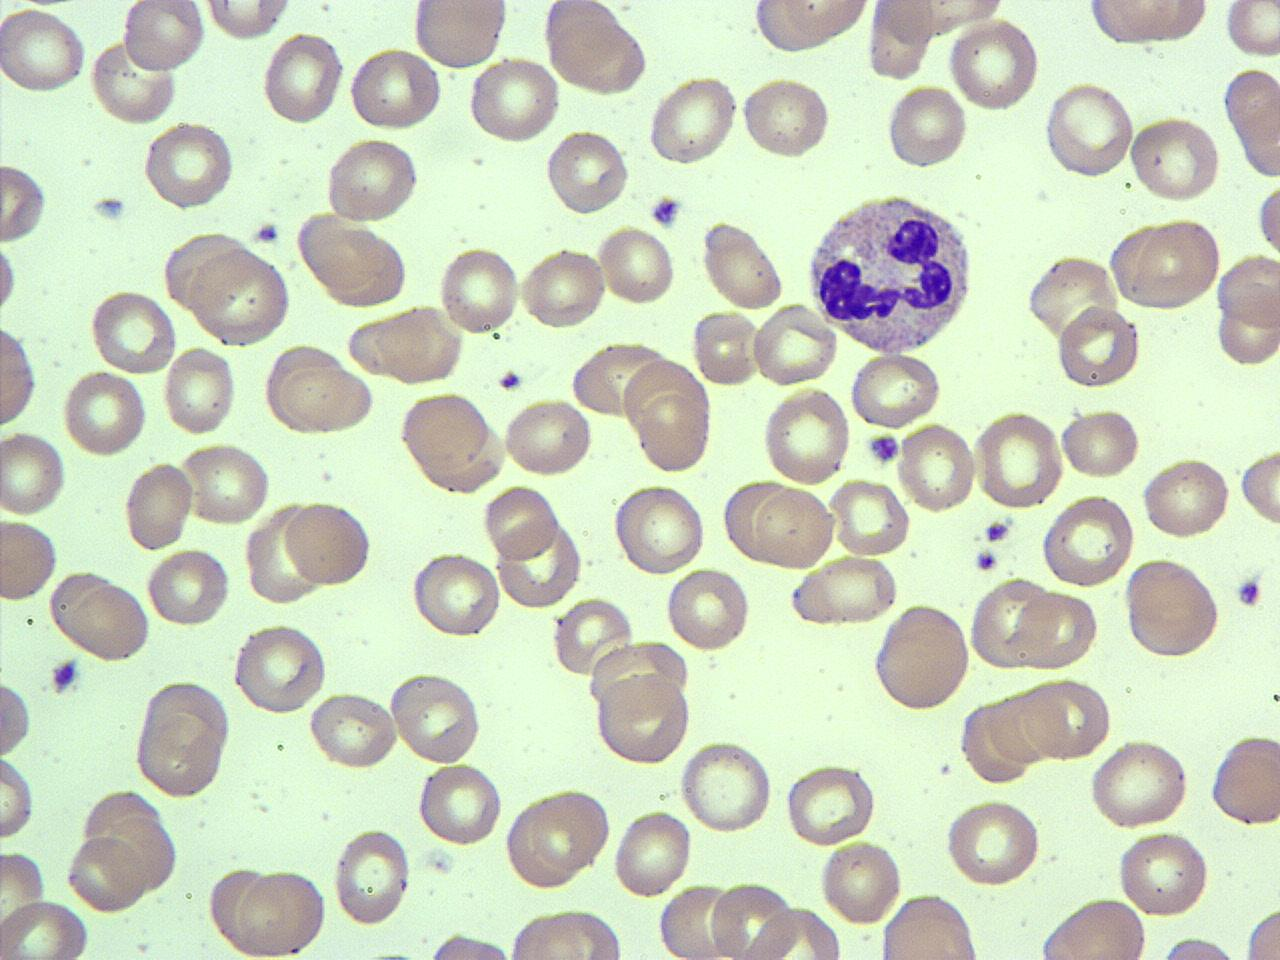Platelets: (647, 192, 685, 230), (48, 656, 84, 698), (1234, 570, 1268, 612), (865, 430, 902, 466), (89, 192, 129, 224), (982, 518, 1012, 544), (251, 221, 281, 245), (974, 547, 1000, 573), (498, 368, 524, 390)
RBC: (132, 680, 233, 802), (504, 786, 612, 892), (872, 600, 973, 714), (1107, 216, 1225, 312), (1090, 91, 1200, 193), (1121, 556, 1225, 662), (540, 1, 654, 97), (186, 246, 294, 346), (396, 388, 500, 489), (1087, 736, 1193, 832), (302, 218, 412, 309), (677, 736, 776, 837), (944, 15, 1042, 116), (1040, 79, 1136, 182), (344, 306, 466, 385), (973, 408, 1066, 511), (387, 670, 486, 766), (1041, 490, 1137, 590), (231, 620, 331, 716), (610, 481, 708, 577), (760, 384, 852, 486), (1024, 250, 1123, 344), (944, 795, 1043, 888), (595, 674, 694, 766), (322, 135, 424, 225), (465, 53, 562, 147), (646, 73, 742, 167), (230, 866, 329, 958), (141, 119, 239, 211), (1115, 827, 1213, 918), (409, 549, 504, 641), (782, 760, 880, 850), (739, 72, 833, 164), (968, 573, 1053, 674), (1128, 116, 1224, 206), (332, 824, 413, 929), (87, 36, 180, 127), (242, 502, 324, 606), (56, 574, 152, 662), (1138, 454, 1234, 542), (346, 45, 442, 132), (259, 29, 345, 127), (788, 554, 900, 628), (494, 518, 585, 610), (1018, 674, 1112, 762), (281, 498, 372, 589), (0, 4, 89, 97), (816, 836, 904, 930), (568, 338, 668, 419), (179, 439, 272, 526), (435, 244, 522, 338), (664, 564, 752, 654), (746, 483, 838, 570), (88, 287, 179, 374), (501, 394, 594, 480), (610, 806, 694, 899), (698, 218, 786, 308), (883, 80, 968, 172), (307, 688, 400, 772), (1008, 588, 1102, 672), (896, 419, 979, 514), (848, 350, 944, 431), (544, 127, 632, 216), (62, 368, 149, 458), (415, 762, 505, 849), (718, 477, 803, 568), (275, 360, 378, 436), (635, 378, 715, 474), (160, 342, 239, 437), (751, 302, 837, 388), (145, 544, 233, 628), (1034, 896, 1150, 960), (520, 248, 608, 332), (549, 594, 635, 678), (709, 878, 797, 959), (878, 892, 984, 960), (122, 456, 197, 552), (1055, 305, 1139, 389), (595, 223, 678, 307), (1207, 732, 1279, 830), (62, 834, 149, 914), (410, 0, 508, 70), (504, 905, 628, 959), (826, 475, 910, 556), (750, 0, 873, 54), (120, 0, 208, 76), (656, 880, 740, 959), (0, 426, 69, 520), (481, 482, 560, 562), (205, 863, 275, 953), (740, 902, 848, 960), (1058, 405, 1140, 481), (986, 685, 1060, 766), (1085, 0, 1209, 47), (866, 0, 1011, 40), (690, 308, 762, 387), (1, 897, 91, 960), (1214, 283, 1280, 368), (0, 513, 60, 605), (0, 844, 51, 952), (1222, 64, 1280, 152), (1215, 252, 1278, 330), (1, 160, 51, 245), (200, 0, 297, 43), (0, 323, 39, 428), (0, 752, 39, 844), (1238, 446, 1280, 530), (1223, 0, 1280, 59), (417, 930, 522, 960), (0, 670, 33, 762), (1252, 173, 1280, 266), (1152, 934, 1244, 960), (1244, 902, 1280, 960), (0, 231, 19, 320)
WBC: (801, 182, 980, 358)
